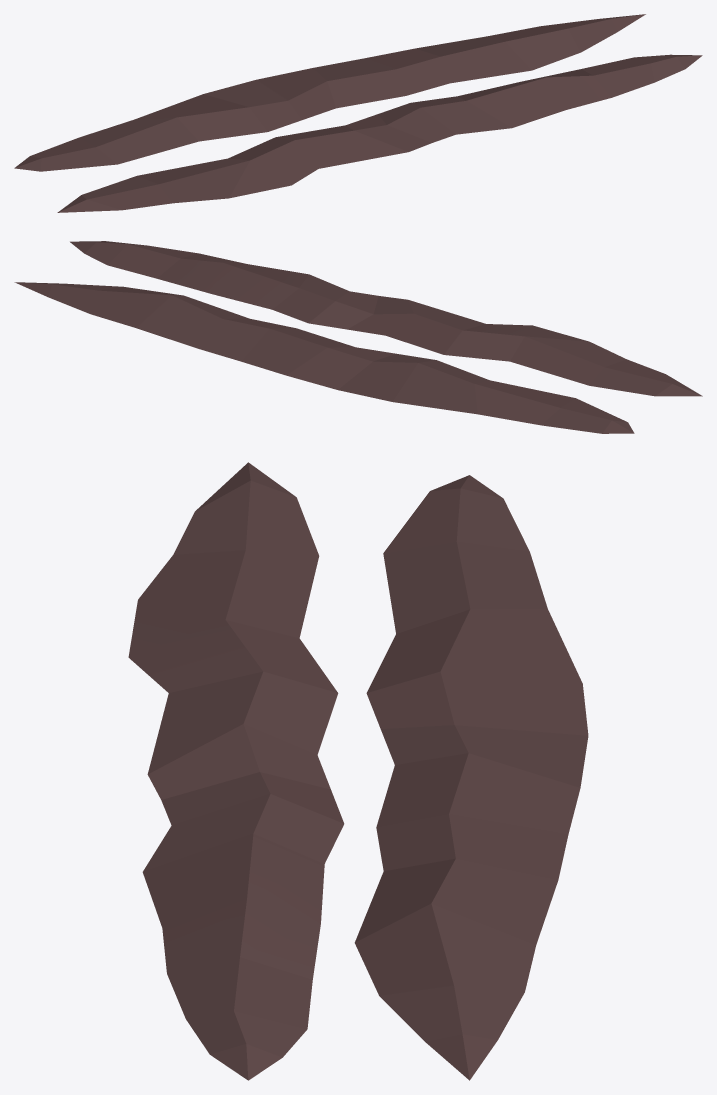
File: terrain_5.FBX
The picture shows the model from 3 angles, top to bottom: view 1: azimuth 30°, elevation 25°; view 2: azimuth 150°, elevation 25°; view 3: azimuth 270°, elevation 25°; orthographic projection. The views are drawn at different scales.
Visible parts, largest first — view 1: terrain_5; view 2: terrain_5; view 3: terrain_5.
Part boxes in pixels (left/top/right/bottom): terrain_5: left=14, top=14, right=702, bottom=212; terrain_5: left=14, top=241, right=702, bottom=433; terrain_5: left=128, top=462, right=588, bottom=1080.
Size of the model in its own units: 1025 by 24.89 by 322.
